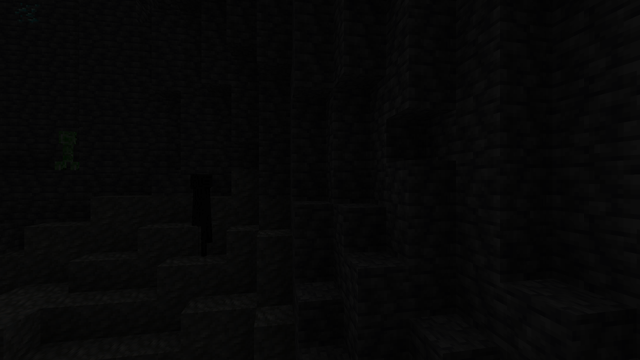creepers: (55, 129, 78, 161)
endermens: (189, 171, 212, 257)
